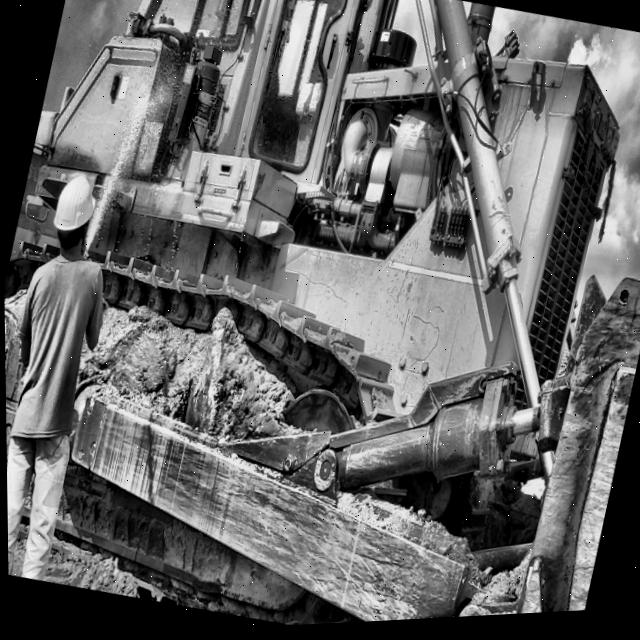buldozerpayloadergrader: (35, 0, 640, 626)
